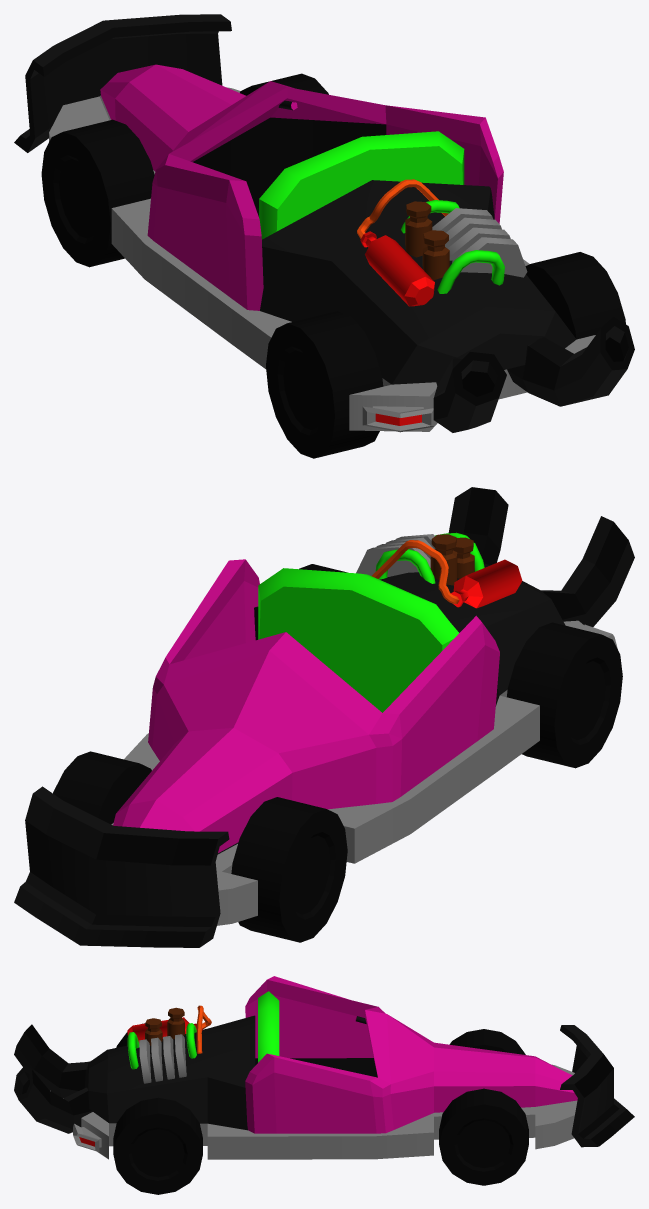
File: car-parsche-sport-green_8.fbx
The picture shows the model from 3 angles, top to bottom: view 1: azimuth 30°, elevation 25°; view 2: azimuth 150°, elevation 25°; view 3: azimuth 270°, elevation 25°; orthographic projection. The views are drawn at different scales.
Visible parts, largest first — view 1: car-parsche-sport-green_8, wheel_3, wheel_1, wheel_4, wheel_2; view 2: car-parsche-sport-green_8, wheel_1, wheel_3, wheel_2; view 3: car-parsche-sport-green_8, wheel_4, wheel_2, wheel_1.
Part boxes in pixels (x1,y1,x2,y2): car-parsche-sport-green_8: (14, 14, 634, 432); wheel_3: (266, 311, 383, 458); wheel_1: (41, 119, 154, 267); wheel_4: (525, 252, 625, 339); wheel_2: (240, 73, 328, 95); car-parsche-sport-green_8: (14, 487, 634, 947); wheel_1: (231, 797, 347, 942); wheel_3: (507, 622, 622, 768); wheel_2: (53, 751, 151, 824); car-parsche-sport-green_8: (14, 976, 634, 1159); wheel_4: (113, 1097, 202, 1194); wheel_2: (439, 1088, 528, 1185); wheel_1: (449, 1029, 525, 1054).
Size of the model in its own units: 1.03 by 2.93 by 0.7376.
